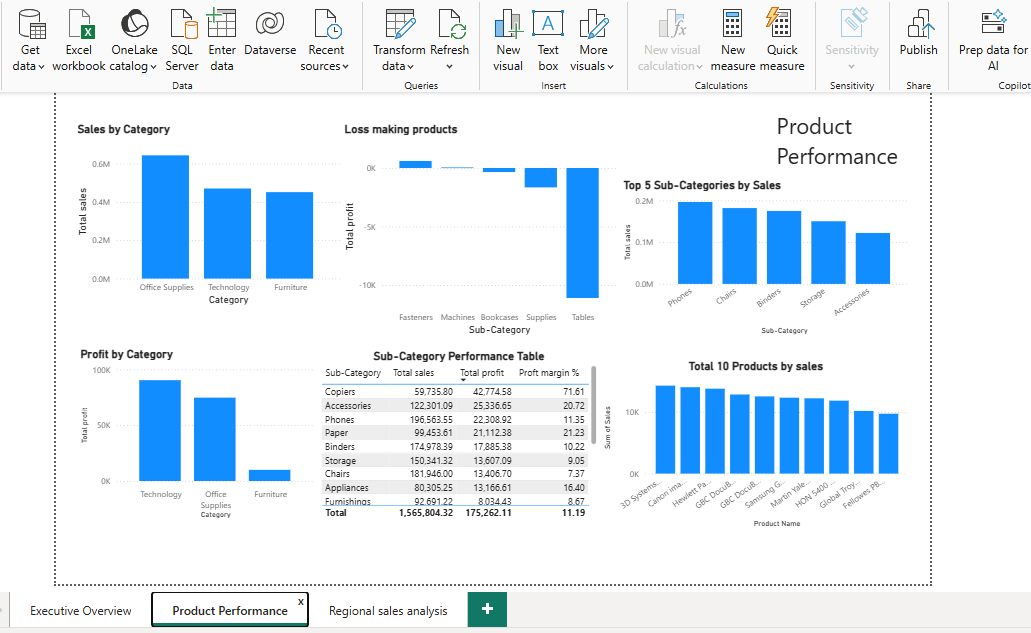

This screenshot's page, from the dashboard's own definition file:
{"tool":"powerbi","page":{"name":"Product Performance","canvas":[1280,720],"ordinal":1},"visuals":[{"type":"columnChart","title":"Sales by Category","fields":{"Y":["Sheet1.Total sales"],"Category":["Sheet1.Category"]},"box":[26.3,43.9,395.1,272.2],"z":0},{"type":"columnChart","title":"Profit by Category","fields":{"Y":["Sheet1.Total profit"],"Category":["Sheet1.Category"]},"box":[30.7,373.2,352.7,256.1],"z":1000},{"type":"columnChart","title":"Loss making products","fields":{"Category":["Sheet1.Sub-Category"],"Y":["Sheet1.Total profit"]},"box":[417.1,43.9,408.3,316.1],"z":2000},{"type":"tableEx","title":"Sub-Category Performance Table","fields":{"Values":["Sheet1.Sub-Category","Sheet1.Total sales","Sheet1.Total profit","Sheet1.Proft margin %"]},"box":[383.4,376.1,412.7,253.2],"z":3000},{"type":"textbox","box":[1049.3,22,207.8,103.9],"z":4000},{"type":"clusteredColumnChart","title":"Total 10 Products by sales","fields":{"Category":["Sheet1.Product Name"],"Y":["Sum(Sheet1.Sales)"]},"box":[796.1,390.7,456.6,251.7],"z":5000},{"type":"clusteredColumnChart","title":"Top 5 Sub-Categories by Sales","fields":{"Y":["Sheet1.Total sales"],"Category":["Sheet1.Sub-Category"]},"box":[825,126,428,234],"z":6000}]}

Visuals, with their boxes on the page's 1280x720 design canvas (x1, y1, x2, y2). These are canvas units, not pixel positions in the 1031x633 screenshot, which may show the page scaled, cropped or inside an application window:
"Sales by Category" columnChart: {"x1": 26, "y1": 44, "x2": 421, "y2": 316}
"Profit by Category" columnChart: {"x1": 31, "y1": 373, "x2": 383, "y2": 629}
"Loss making products" columnChart: {"x1": 417, "y1": 44, "x2": 825, "y2": 360}
"Sub-Category Performance Table" tableEx: {"x1": 383, "y1": 376, "x2": 796, "y2": 629}
textbox: {"x1": 1049, "y1": 22, "x2": 1257, "y2": 126}
"Total 10 Products by sales" clusteredColumnChart: {"x1": 796, "y1": 391, "x2": 1253, "y2": 642}
"Top 5 Sub-Categories by Sales" clusteredColumnChart: {"x1": 825, "y1": 126, "x2": 1253, "y2": 360}
